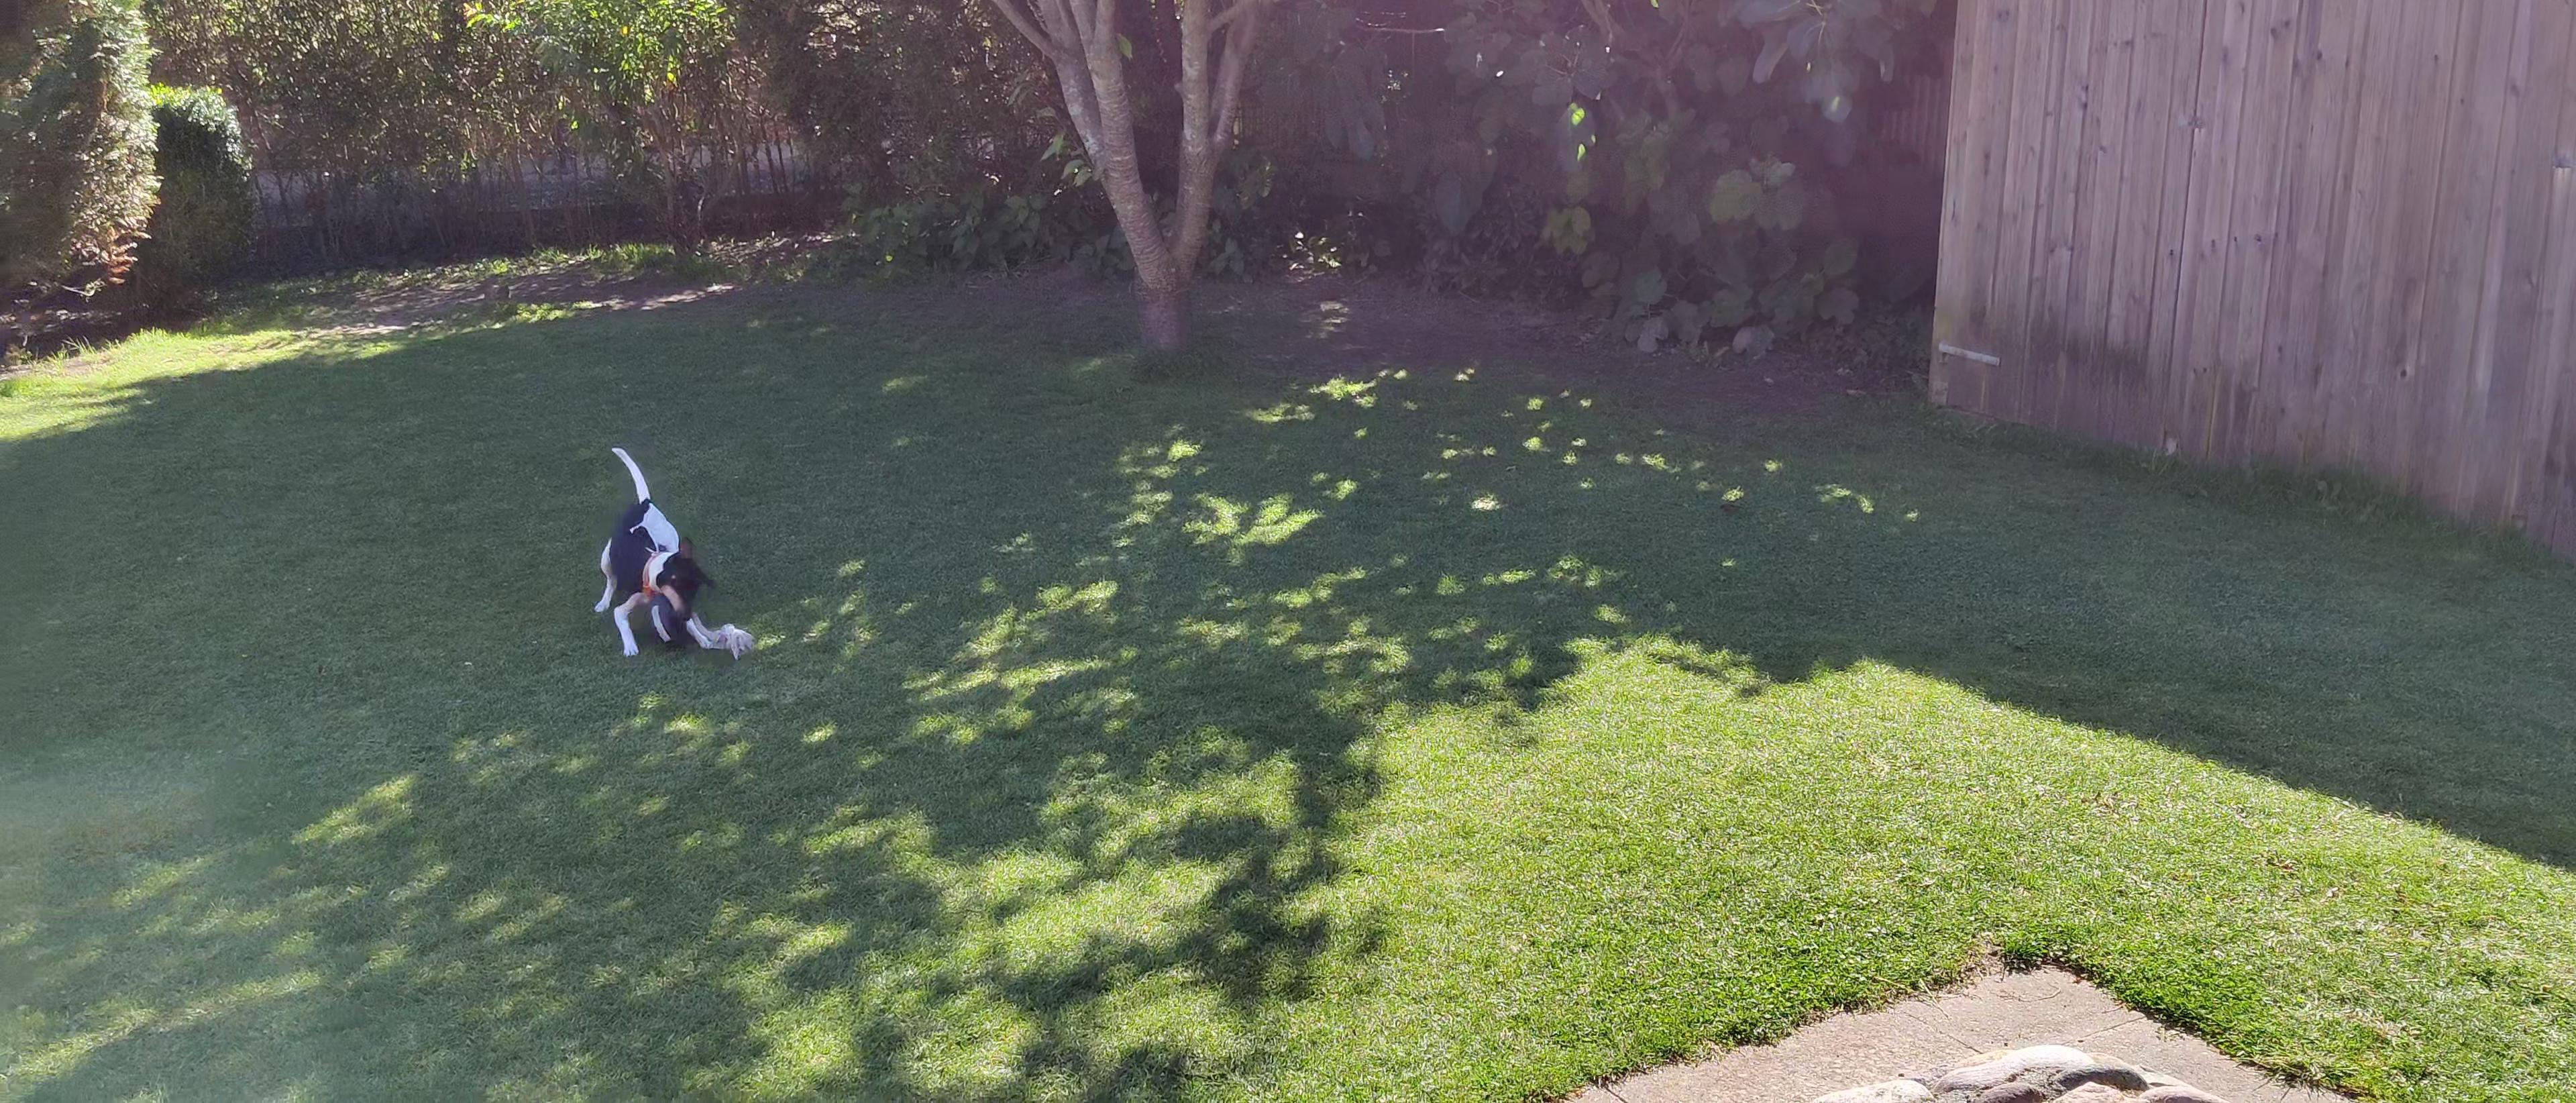Dog: (575, 434, 720, 658)
